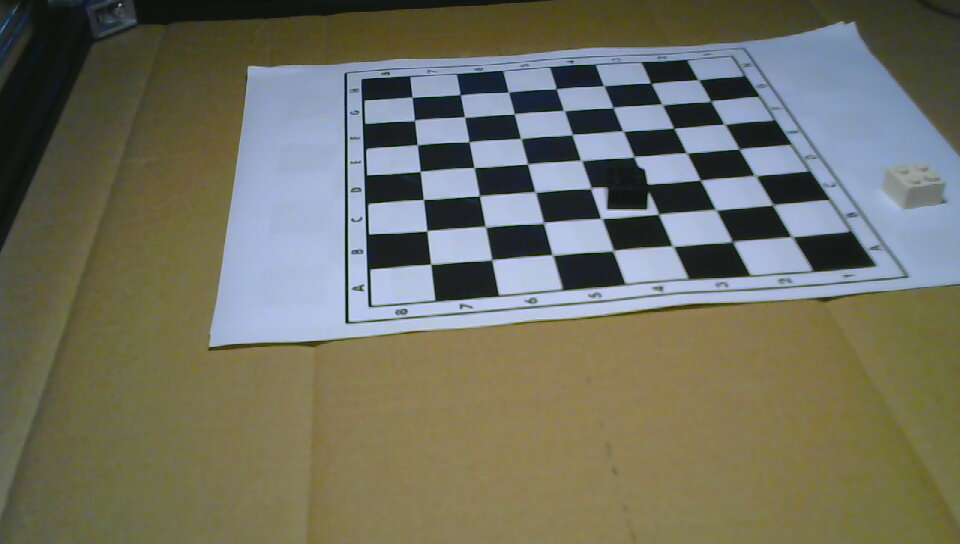bp: (606, 164, 648, 211)
wp: (883, 162, 945, 210)
